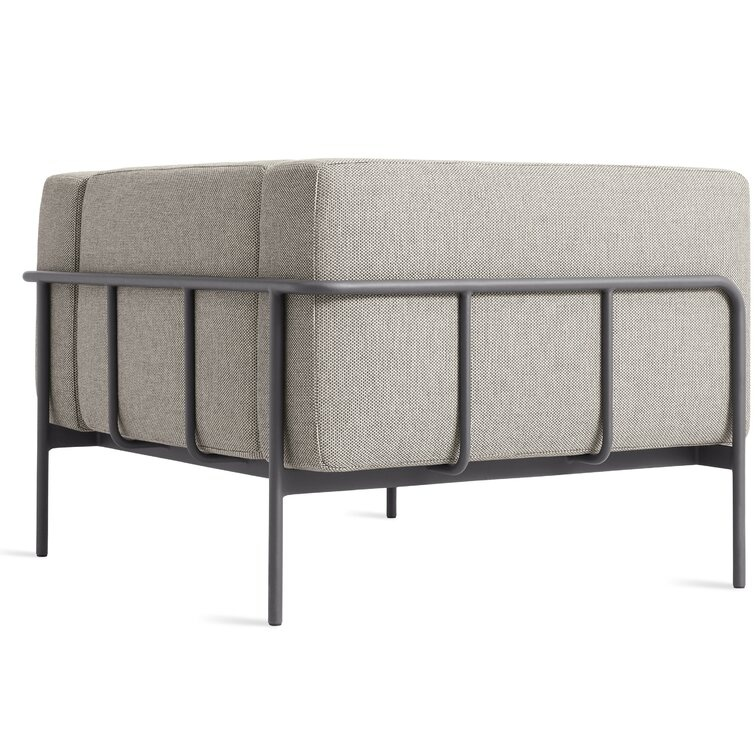obstacle: (25, 160, 748, 624)
